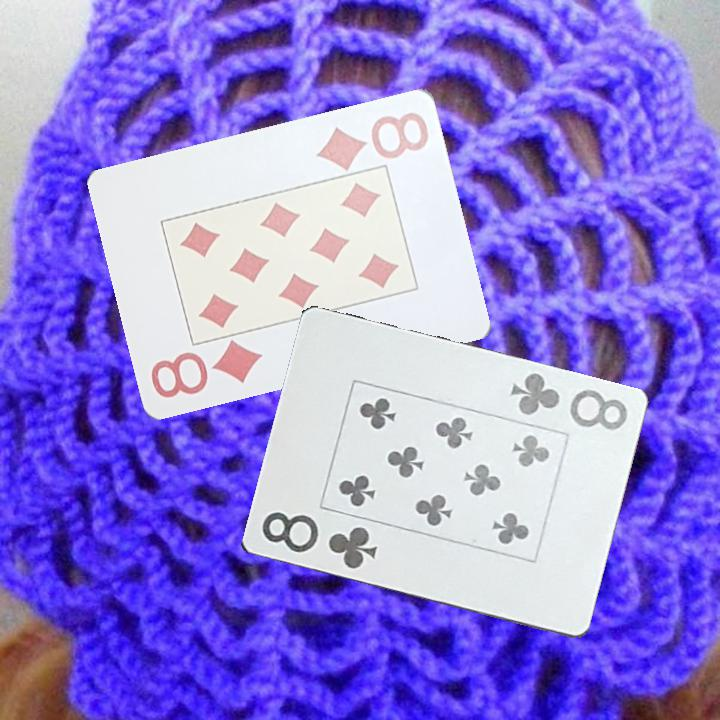8c: (506, 369, 630, 434), (257, 508, 380, 573)
8d: (147, 336, 266, 401), (313, 107, 433, 171)
